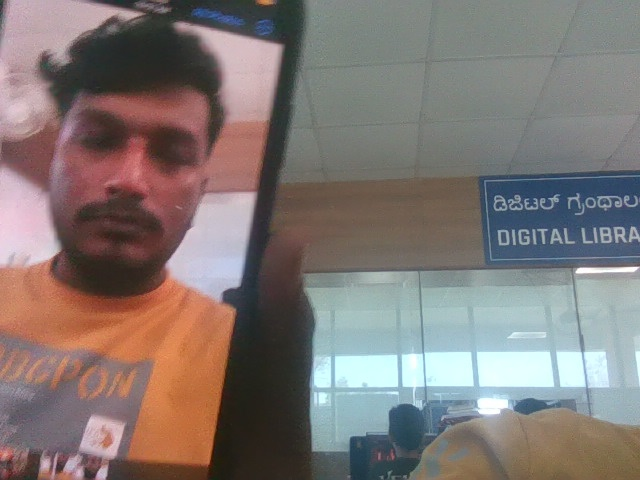fake: (25, 0, 231, 292)
